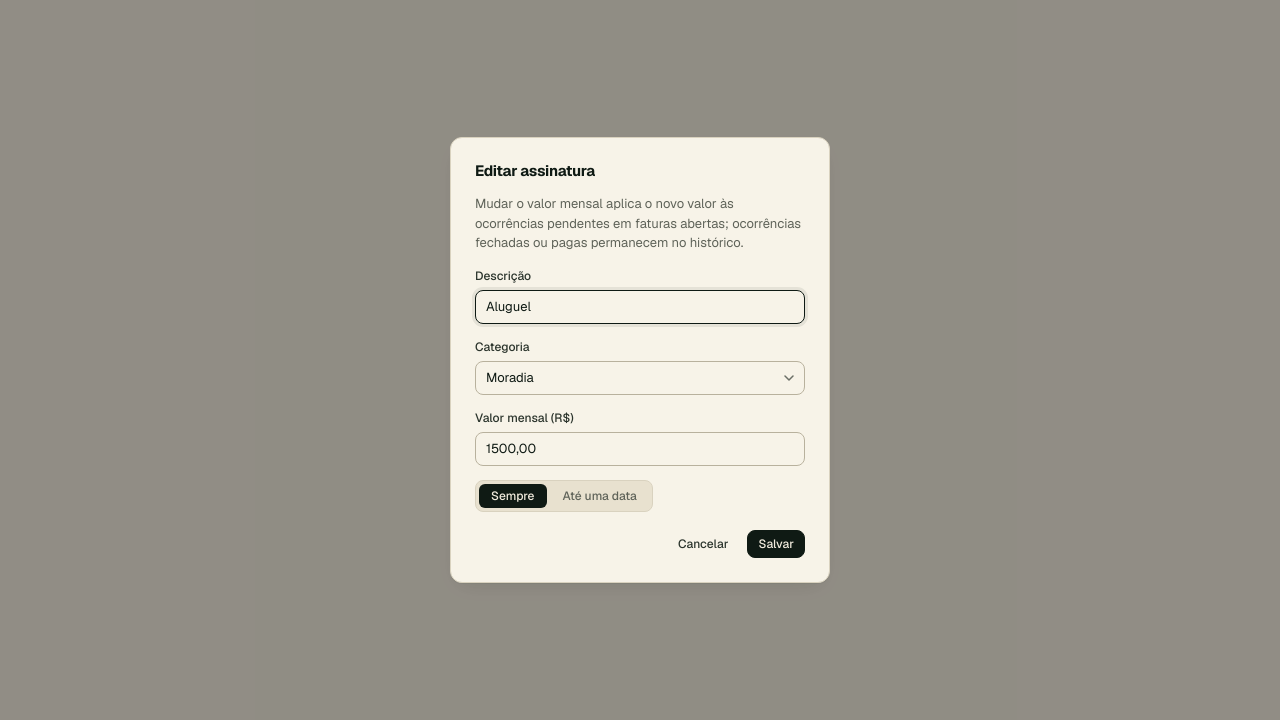
Test: EditarAssinaturaModal — limite de recorrência (RF-DES-19) › recusa salvar em "Até uma data" sem data preenchida
What coordinates should you click on to do the following:
click the radio button labelled "Até uma data"
I would click on:
 (600, 496)
Its box is x1=550 y1=484 x2=649 y2=508.
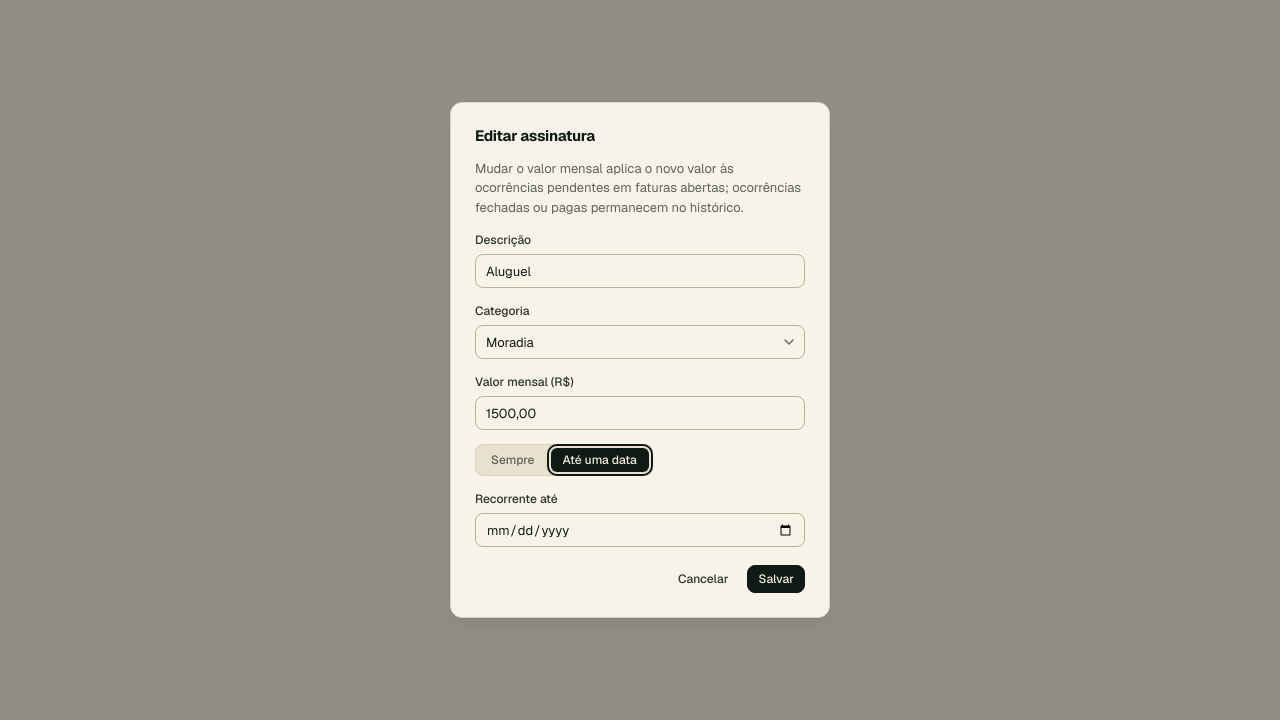
What coordinates should you click on to do the following:
click the button "Salvar"
I would click on:
 (776, 579)
Its box is x1=747 y1=565 x2=805 y2=593.
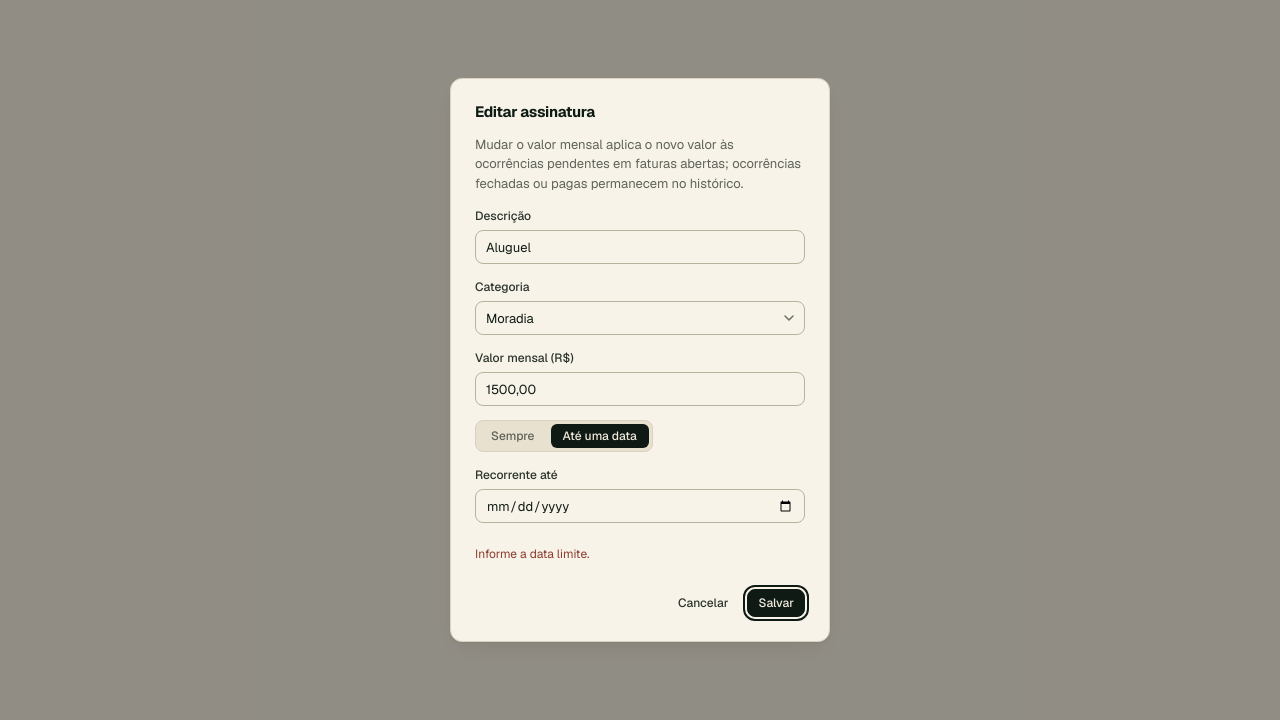
Result: the text "Informe a data limite." is shown at x1=475 y1=546 x2=590 y2=562
